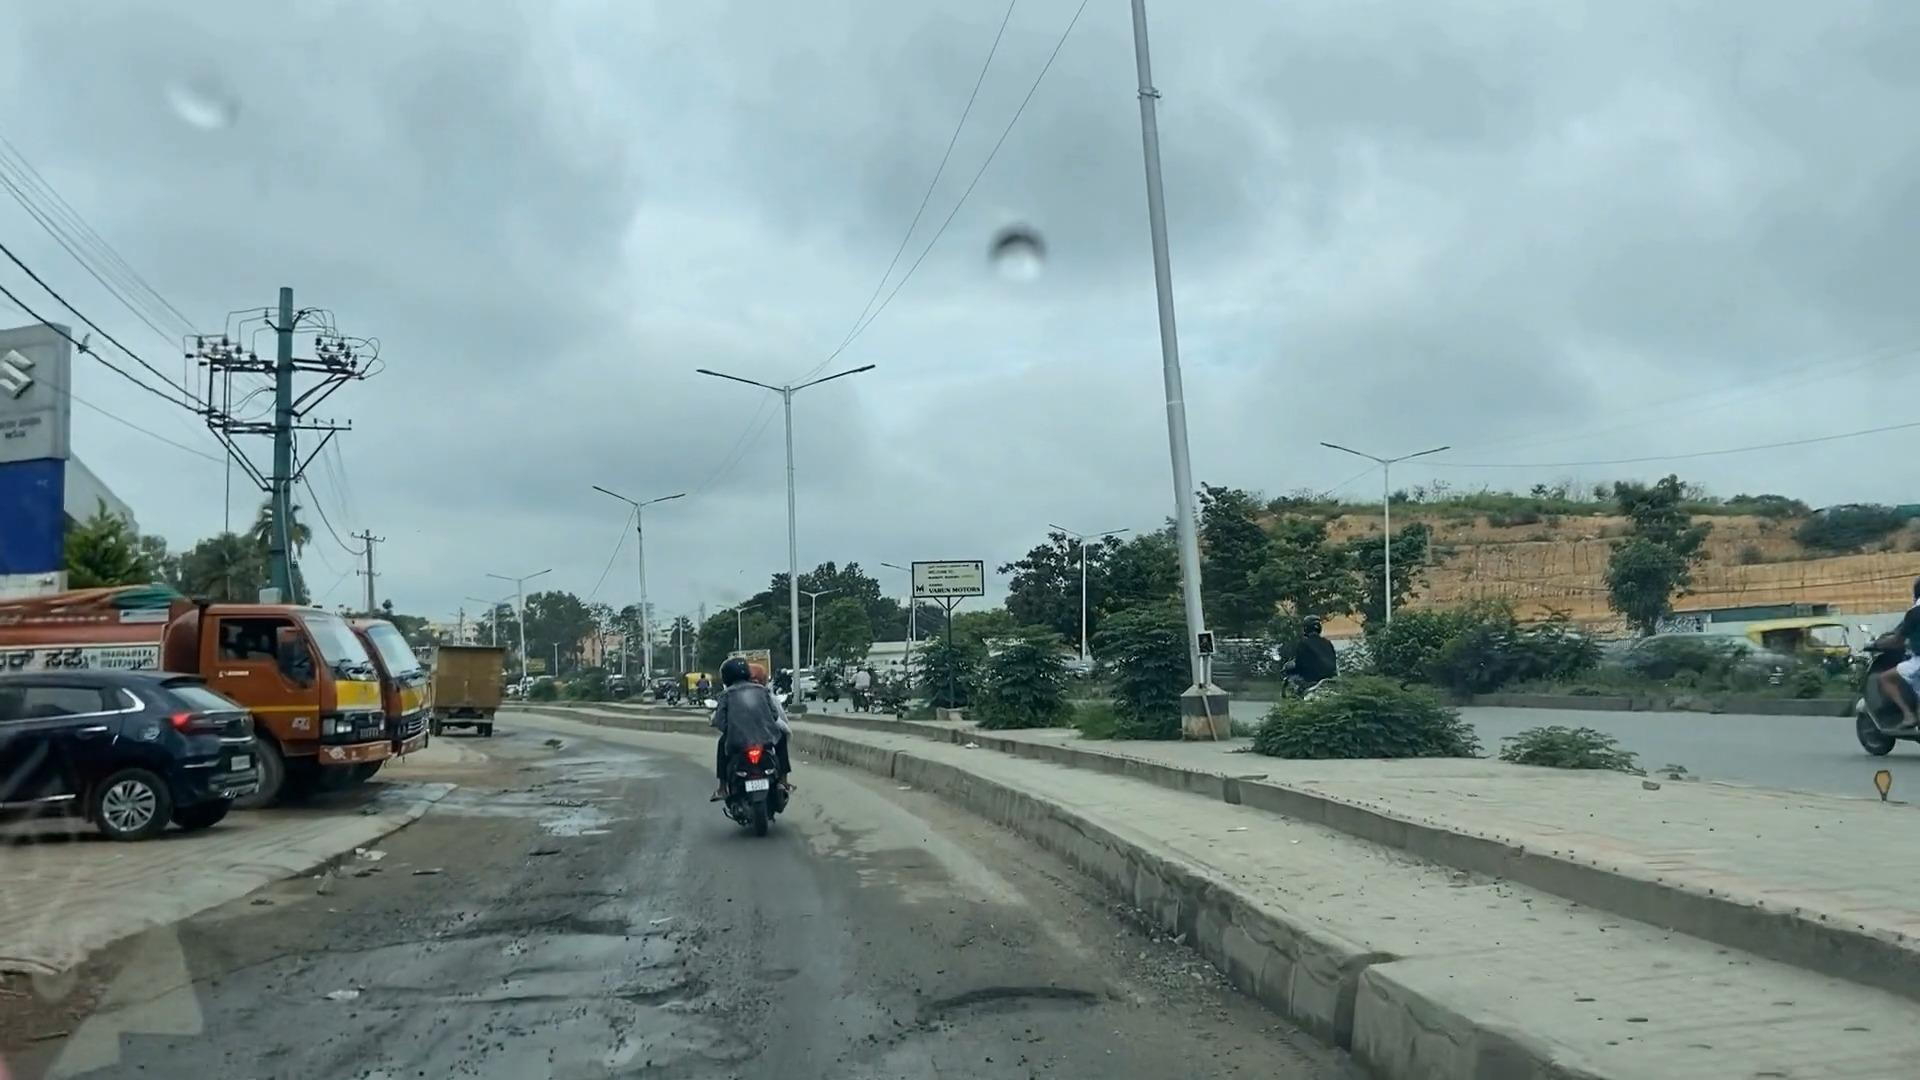LMV: (713, 653, 794, 827)
RoadDamages: (340, 907, 737, 1025), (493, 783, 636, 894), (413, 1043, 773, 1080), (907, 977, 1116, 1031)
